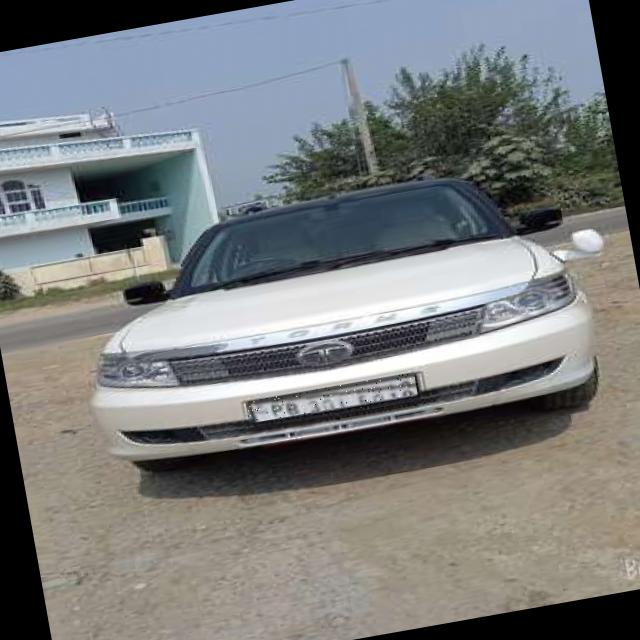Plate: (246, 373, 418, 424)
